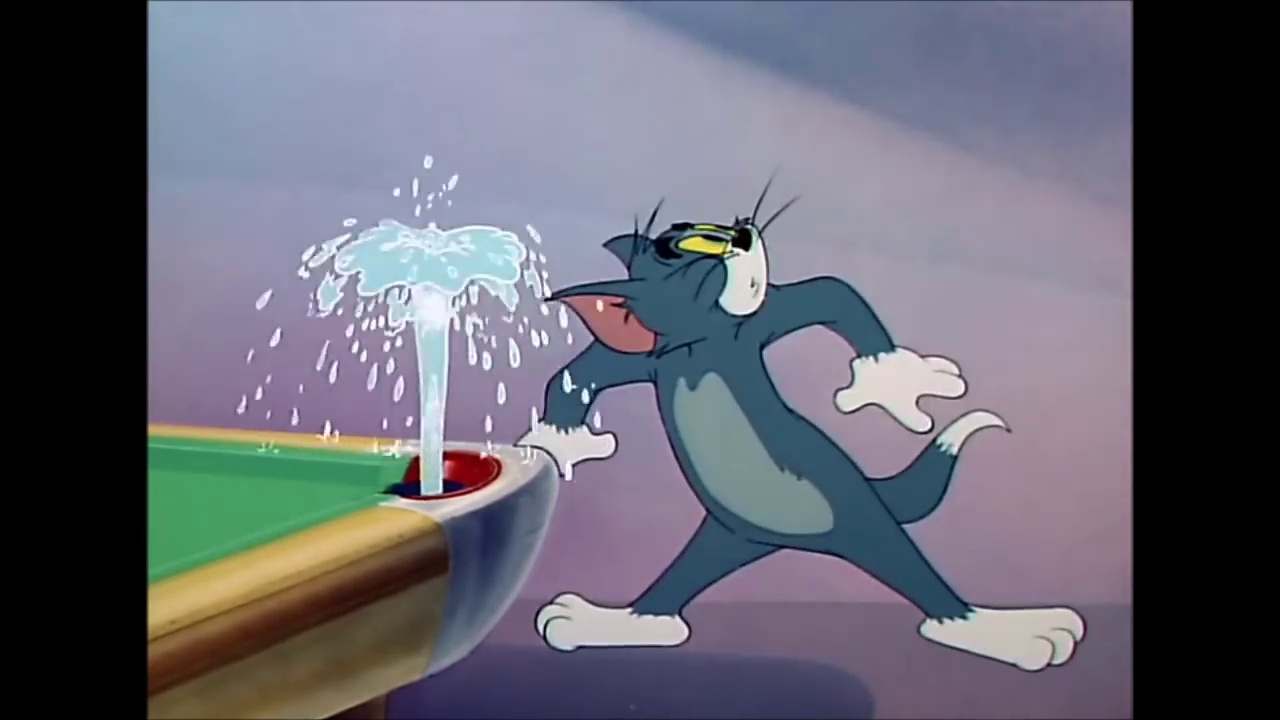surprised: (653, 211, 768, 313)
